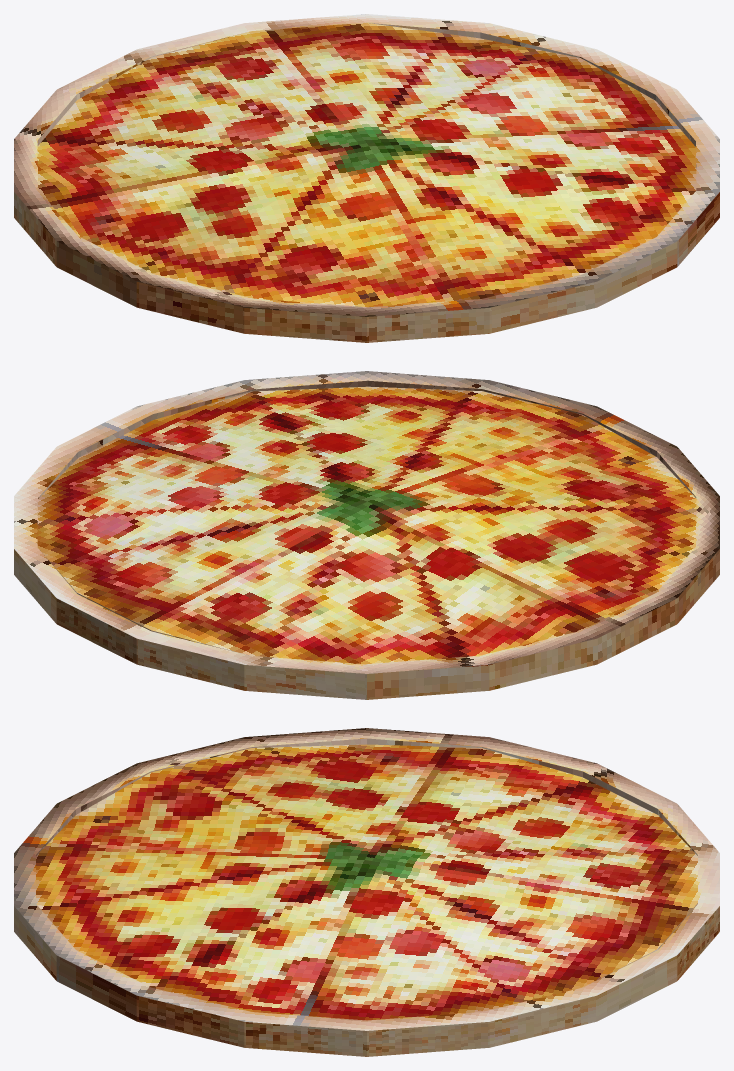
The model's file is pizza.glb.
3 renders of one model, top to bottom at view 1: azimuth 30°, elevation 25°; view 2: azimuth 150°, elevation 25°; view 3: azimuth 270°, elevation 25°, orthographic.
Parts seen in each view (by area): view 1: cylinder_0; view 2: cylinder_0; view 3: cylinder_0.
Part boxes in pixels (x1,y1,x2,y2): cylinder_0: (14,14,719,342); cylinder_0: (14,371,719,699); cylinder_0: (14,728,719,1056).
Bounding box in the file's own units: 1.02 × 0.0719 × 1.
1 material, 1 textured.
